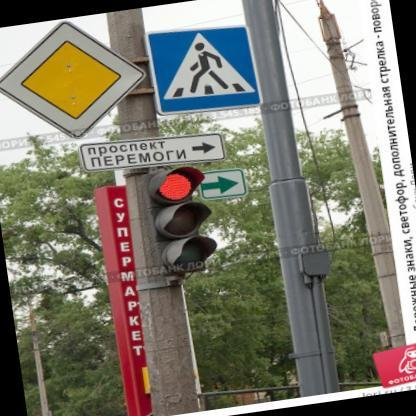road_sign: (0, 21, 146, 138), (147, 25, 263, 115)
traffic light: (147, 167, 217, 273)
